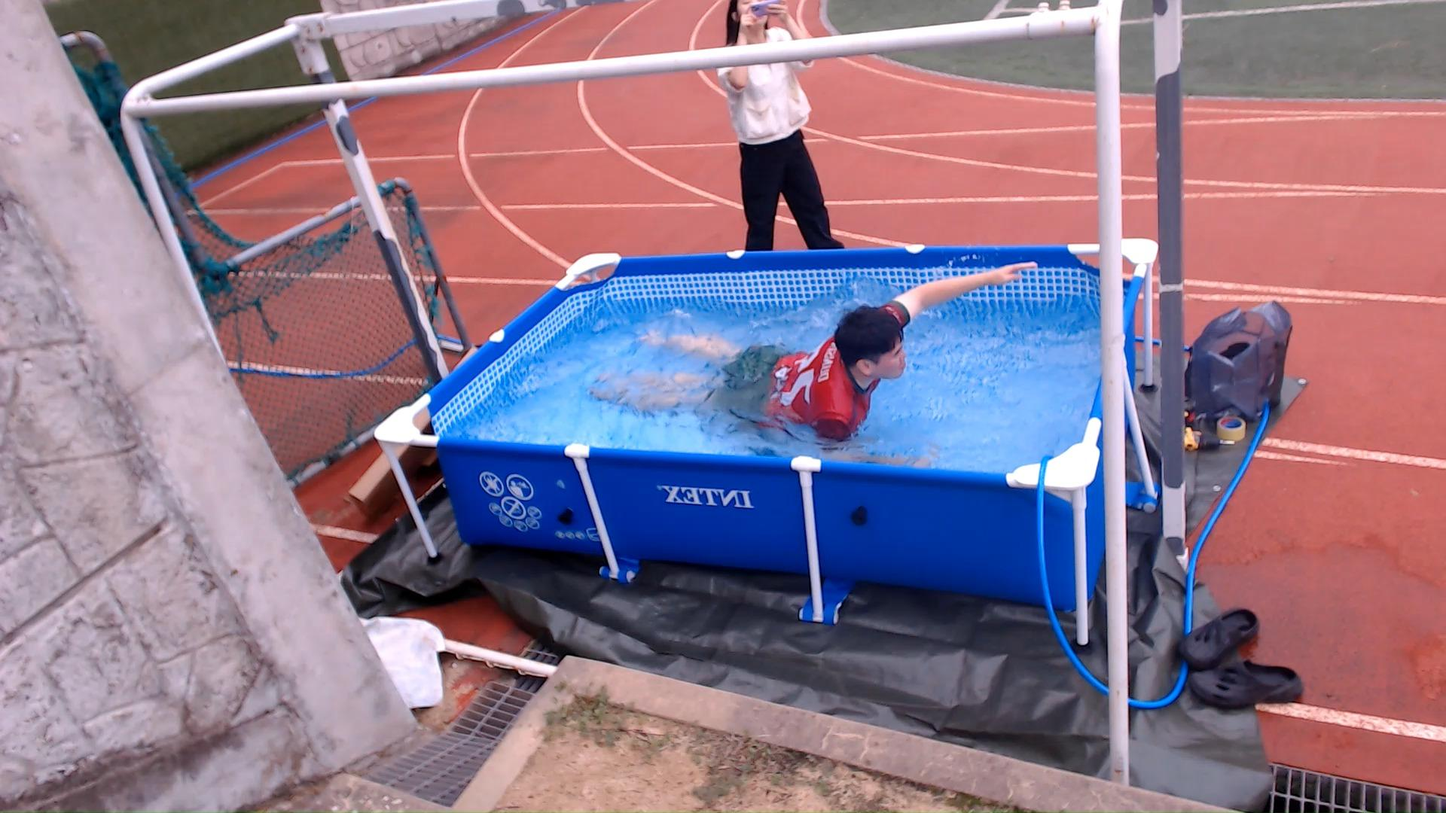Swimming: (528, 241, 1068, 470)
